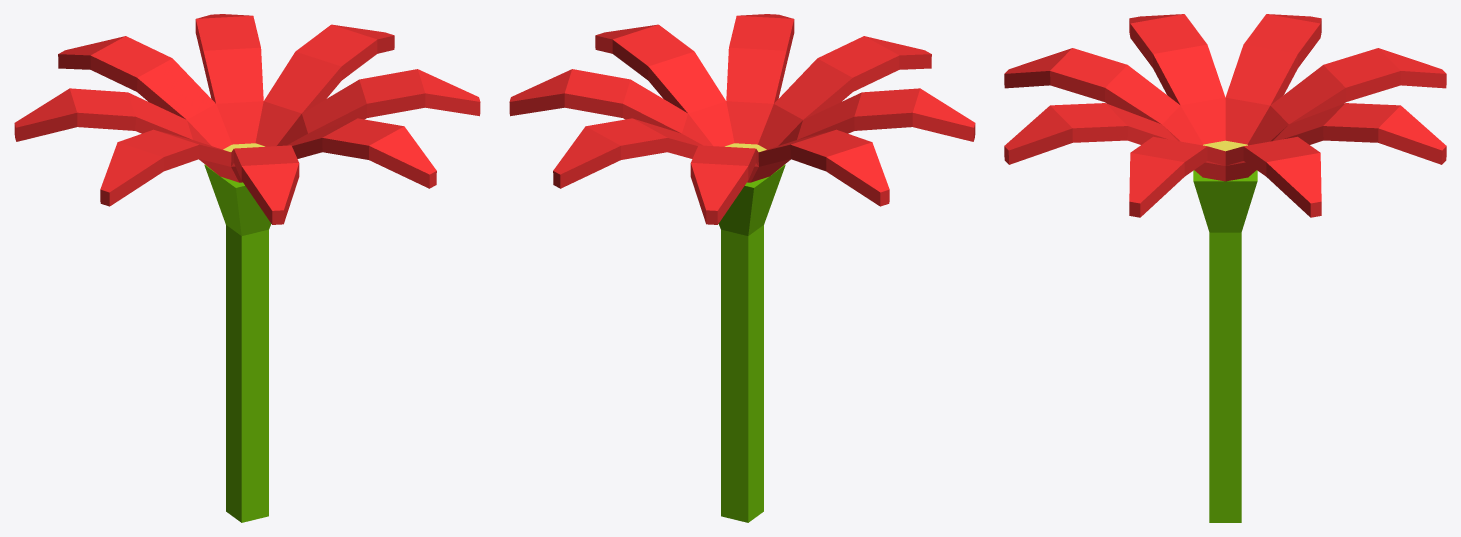
The model's file is Flower_R.fbx.
3 renders of one model, left to right at view 1: azimuth 30°, elevation 25°; view 2: azimuth 150°, elevation 25°; view 3: azimuth 270°, elevation 25°, orthographic.
Parts seen in each view (by area): view 1: Flower_01_Bloom; view 2: Flower_01_Bloom; view 3: Flower_01_Bloom.
Boxes of the visible parts, left/top/right/bottom form: Flower_01_Bloom: left=14, top=14, right=480, bottom=522; Flower_01_Bloom: left=509, top=14, right=975, bottom=522; Flower_01_Bloom: left=1004, top=14, right=1446, bottom=522.
Bounding box in the file's own units: 16.58 × 17.7 × 16.58.
Materials: 1 (1 with a texture image).
